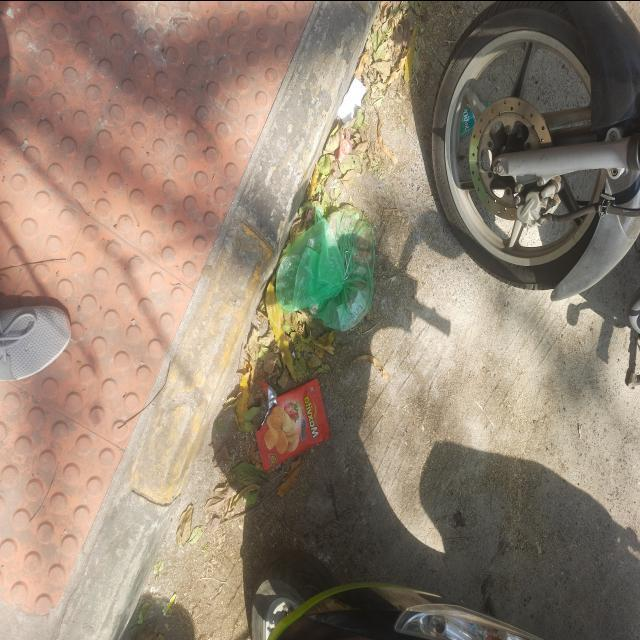Background: (129, 0, 640, 640)
Plastic_Bag: (276, 204, 375, 330)
Plastic_bottle: (460, 105, 475, 137), (485, 102, 491, 107)
Plastic_wraper: (255, 377, 330, 470), (162, 592, 178, 615)
